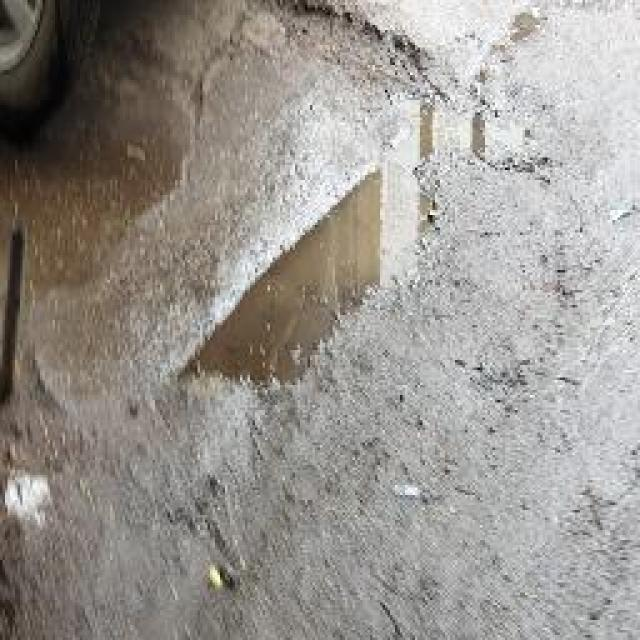stagnation: (129, 5, 589, 418)
